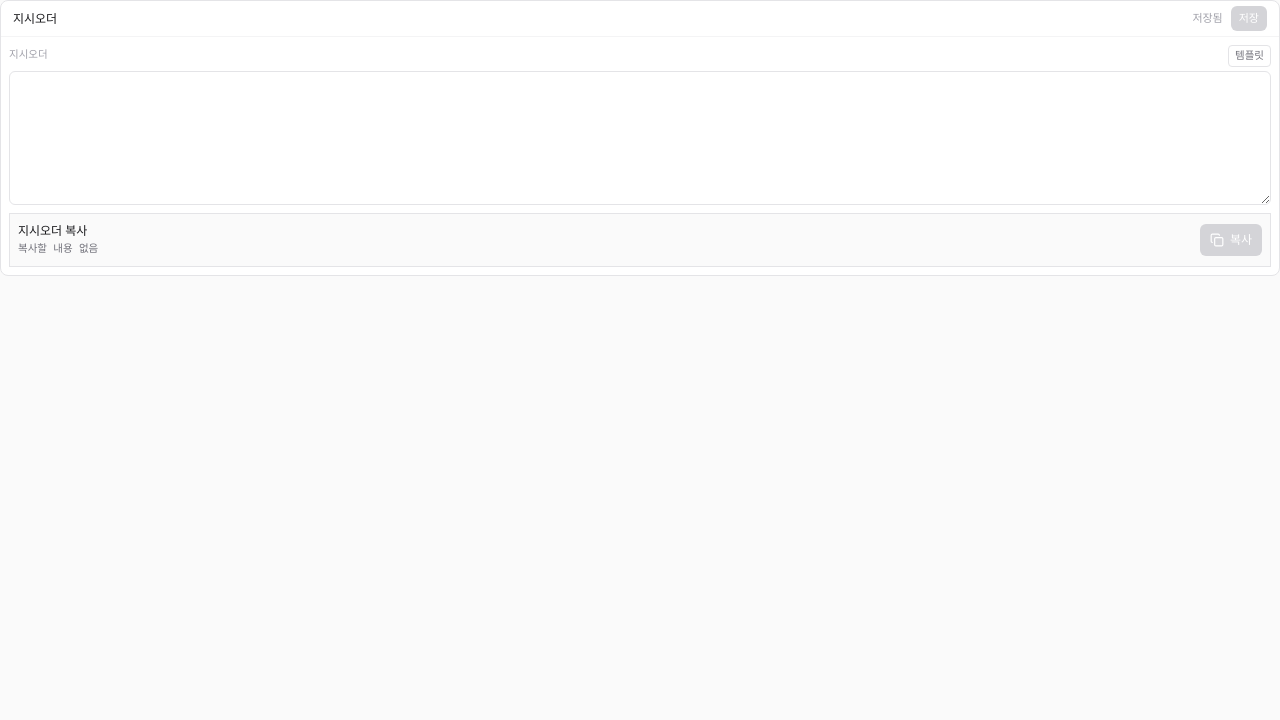
it: PatientTextSection › offers the template popup like the charting form
Click the button "템플릿" at (1250,56), box [1228,45,1271,67]
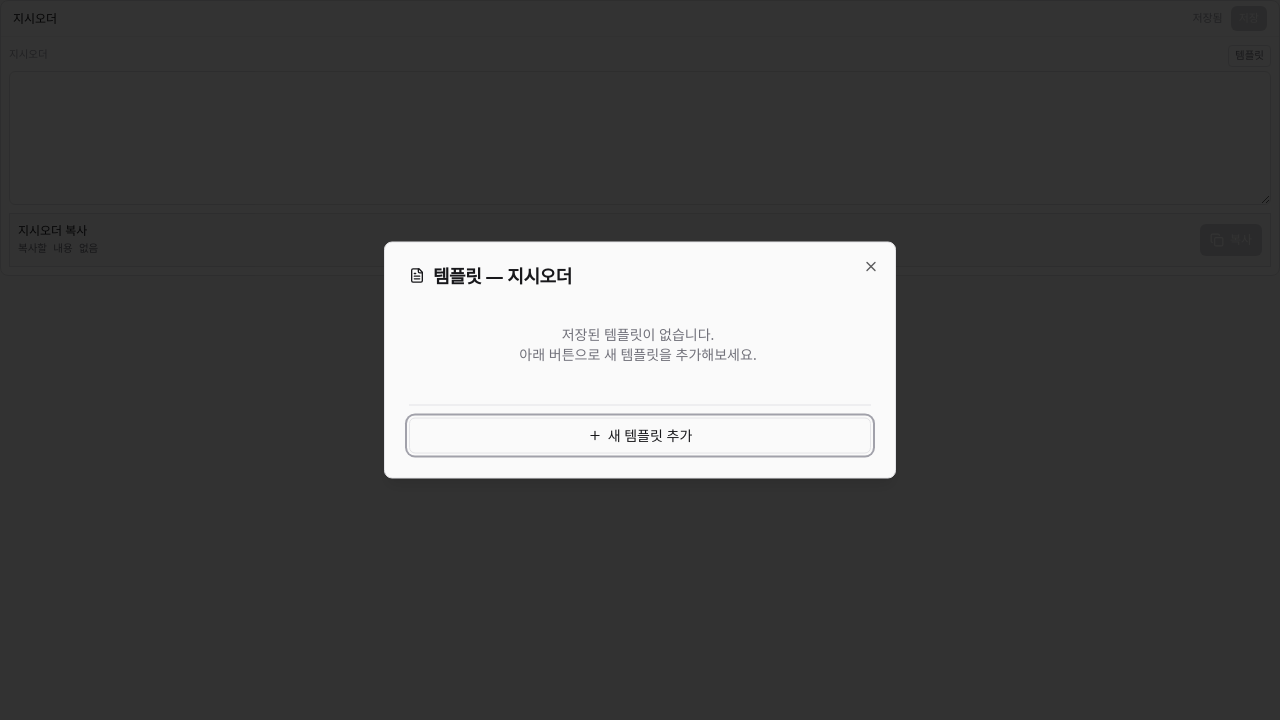
Expected: the heading "템플릿 — 지시오더" is shown, [409,264,572,288]
